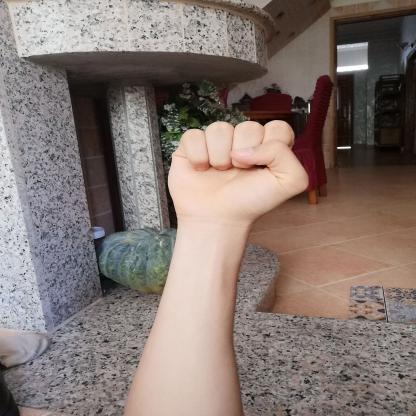SAD: (145, 110, 320, 234)
